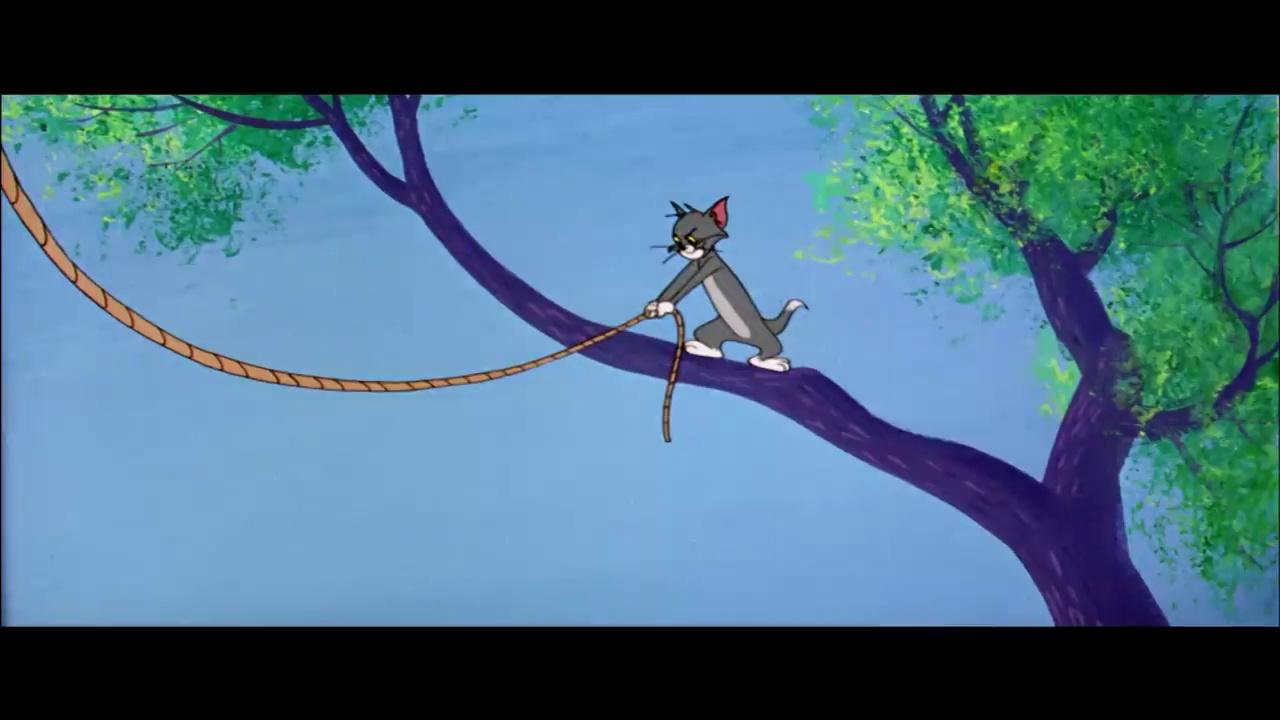Tom: (642, 194, 811, 373)
